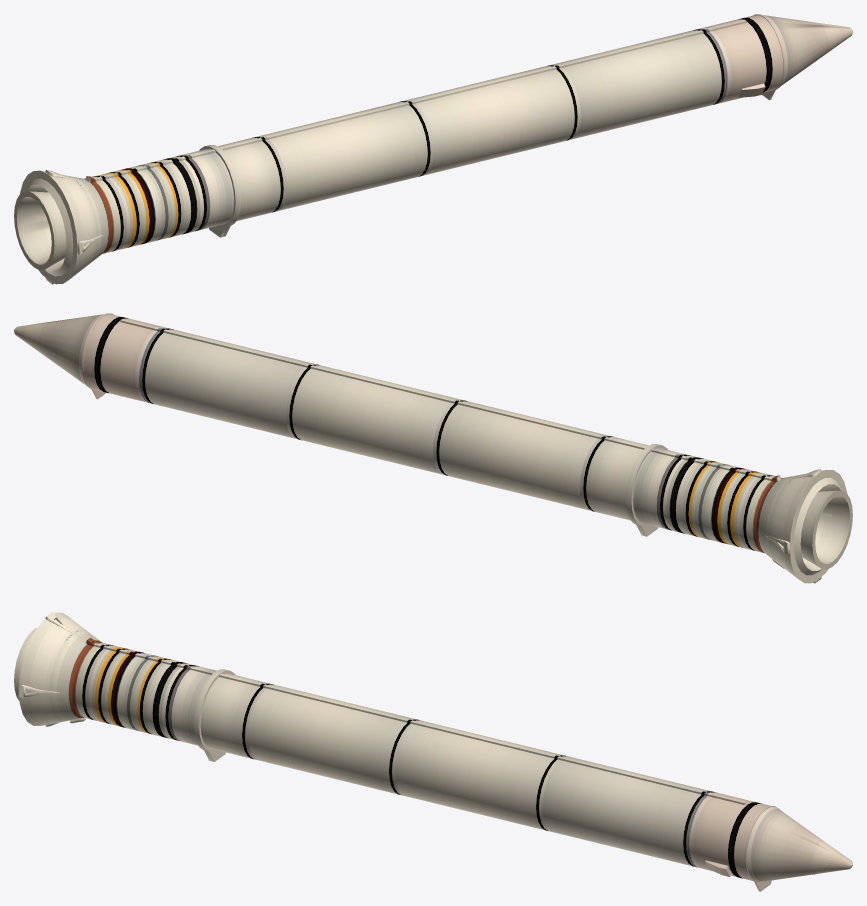
Rendered from rocket-body.glb.
The picture shows the model from 3 angles, top to bottom: view 1: azimuth 30°, elevation 25°; view 2: azimuth 150°, elevation 25°; view 3: azimuth 330°, elevation 25°; orthographic projection.
Visible parts, largest first — view 1: srb.layer1; view 2: srb.layer1; view 3: srb.layer1.
Part boxes in pixels (x1=…): srb.layer1: x1=14, y1=14, x2=852, y2=284; srb.layer1: x1=14, y1=313, x2=852, y2=583; srb.layer1: x1=14, y1=612, x2=852, y2=891.
Bounding box in the file's own units: 1781 × 229 × 229.
1 material, 1 textured.
